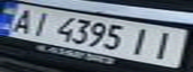3: (69, 17, 90, 47)
4: (51, 14, 78, 43)
5: (103, 21, 130, 53)
9: (87, 19, 109, 49)
A: (3, 6, 39, 34)
I: (145, 28, 187, 61), (124, 25, 160, 56), (24, 9, 57, 38)
